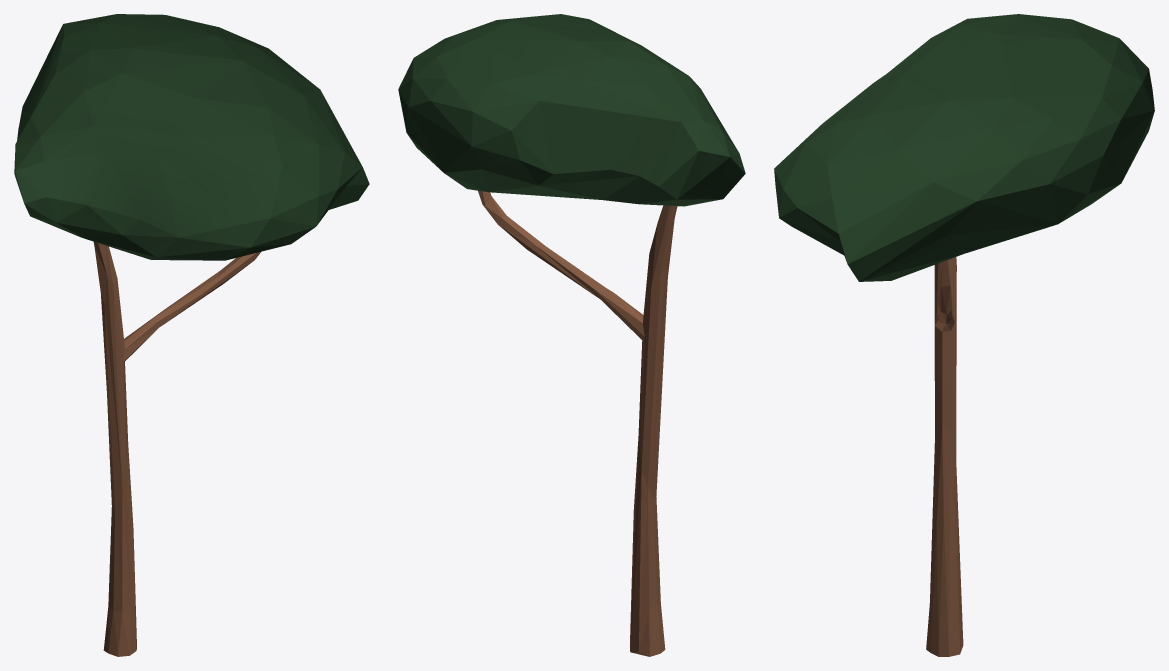
The model's file is SM_tree_fantasy_02.fbx.
3 views of the same model, side by side, from view 1: azimuth 30°, elevation 25°; view 2: azimuth 150°, elevation 25°; view 3: azimuth 270°, elevation 25° (orthographic). The views are drawn at different scales.
Visible parts, largest first — view 1: Object230; view 2: Object230; view 3: Object230.
Boxes of the visible parts, box(x1,y1,x2,y2) form: Object230: box(14, 14, 369, 656); Object230: box(398, 14, 745, 656); Object230: box(774, 14, 1154, 656).
Size of the model in its own units: 142 by 142 by 261.
